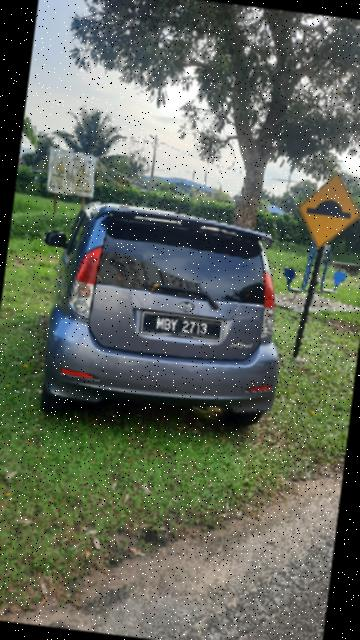License_Plate: (136, 306, 227, 346)
car: (17, 186, 303, 448)
